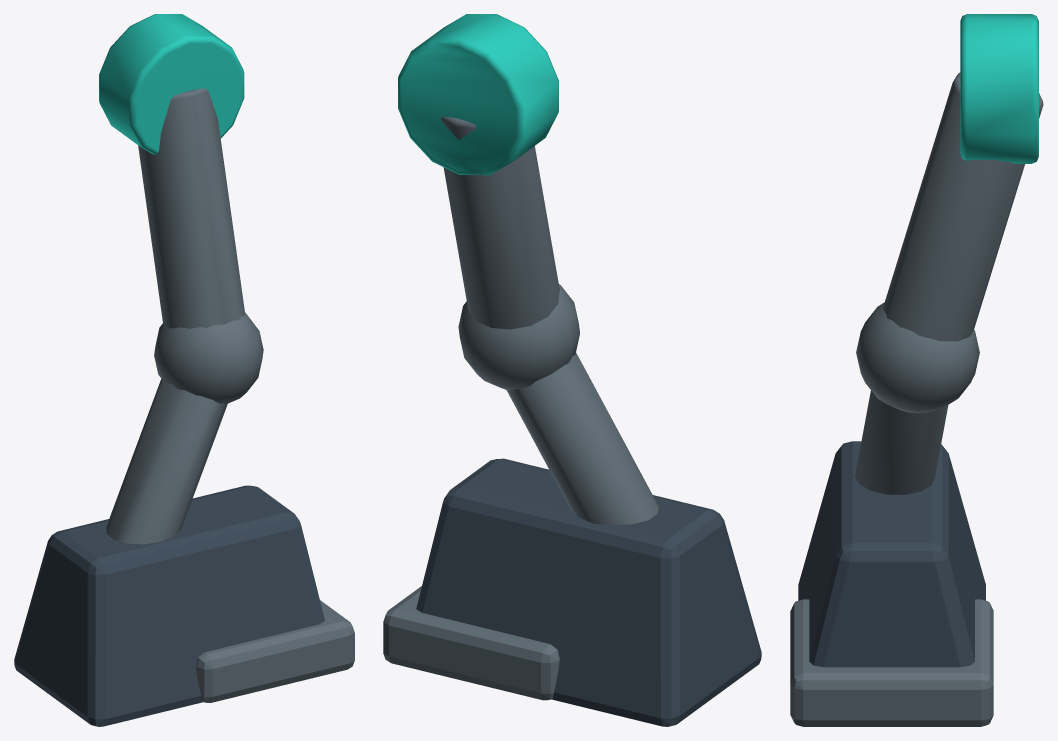
The model's file is SM_Drudge_LegRR.fbx.
3 views of the same model, side by side, from view 1: azimuth 30°, elevation 25°; view 2: azimuth 150°, elevation 25°; view 3: azimuth 270°, elevation 25° (orthographic). The views are drawn at different scales.
Parts seen in each view (by area): view 1: SM_Drudge_LegRR; view 2: SM_Drudge_LegRR; view 3: SM_Drudge_LegRR.
Part boxes in pixels (left/top/right/bottom): SM_Drudge_LegRR: left=14, top=14, right=354, bottom=726; SM_Drudge_LegRR: left=383, top=14, right=761, bottom=726; SM_Drudge_LegRR: left=790, top=14, right=1043, bottom=726.
Bounding box in the file's own units: 7.79 × 5.92 × 17.07.
